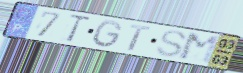7: (38, 10, 64, 38)
G: (91, 19, 124, 49)
M: (178, 31, 222, 65)
S: (154, 29, 189, 59)
T: (65, 14, 93, 44), (127, 24, 153, 53)
